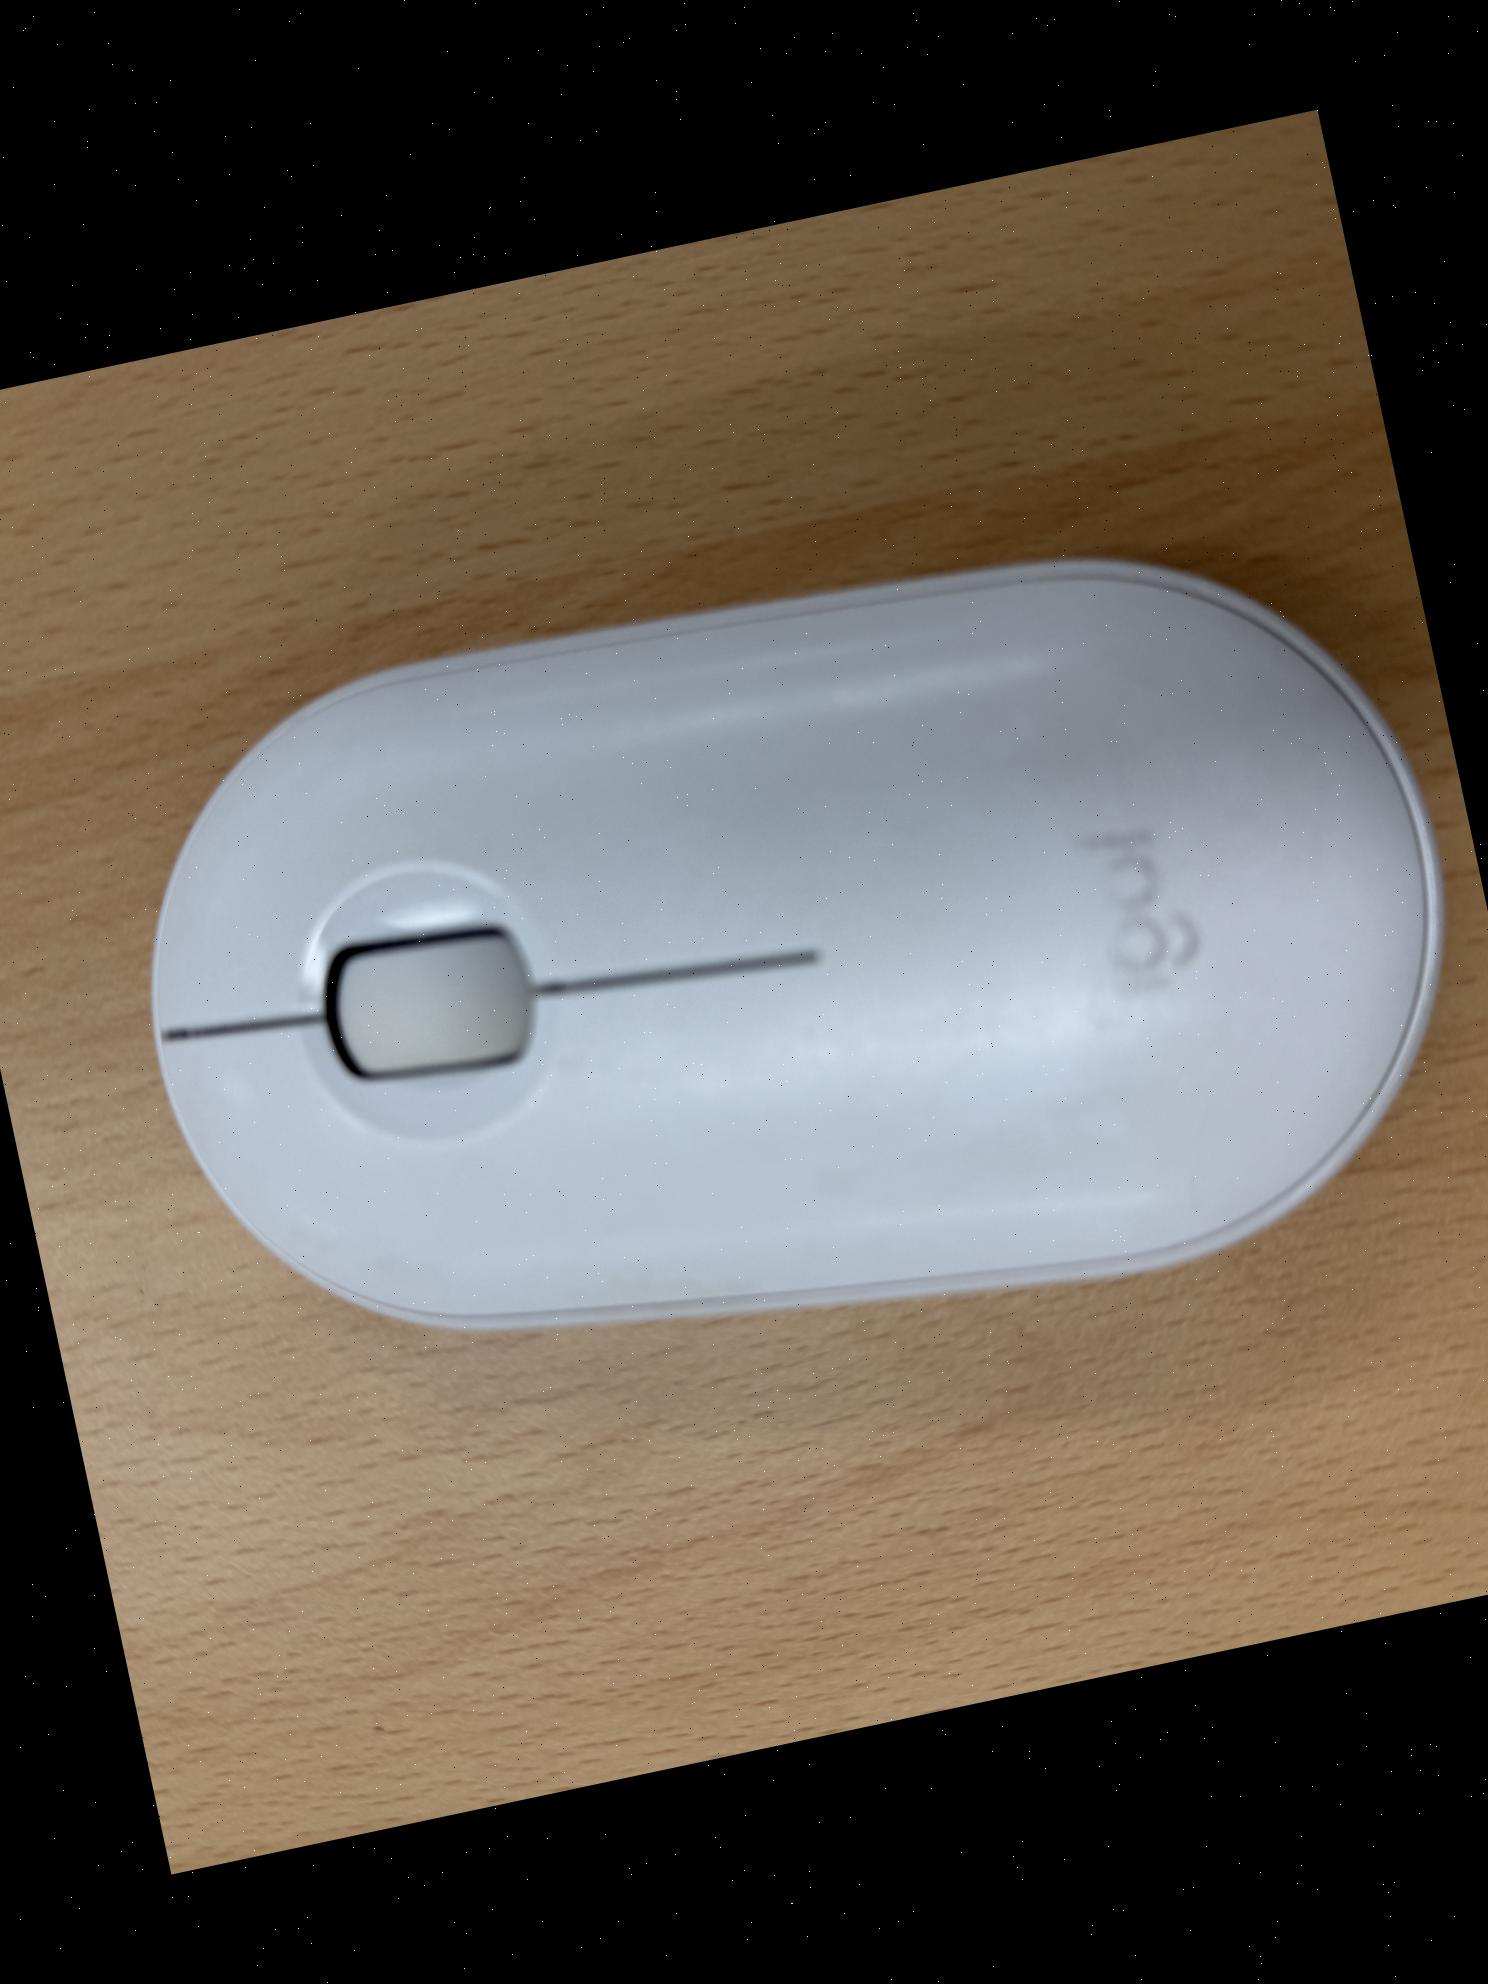front: (80, 450, 1488, 1475)
